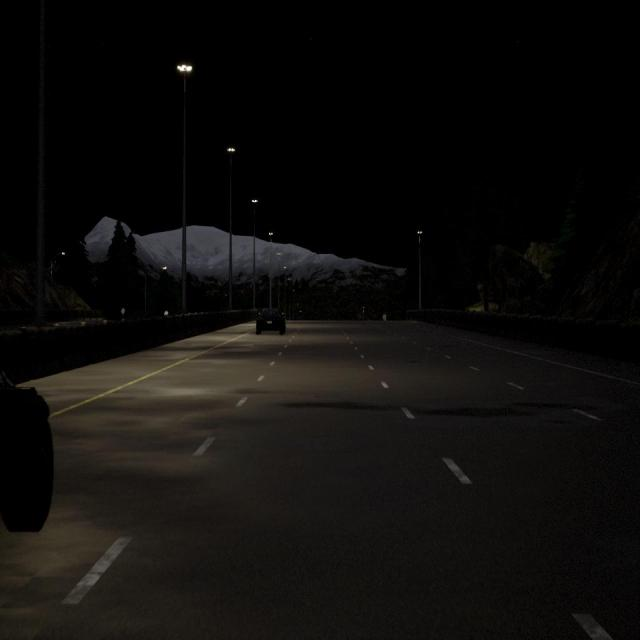Traffic_Signs: (121, 308, 125, 314)
Vehicle: (0, 370, 53, 530), (256, 308, 286, 335), (357, 313, 364, 320)
